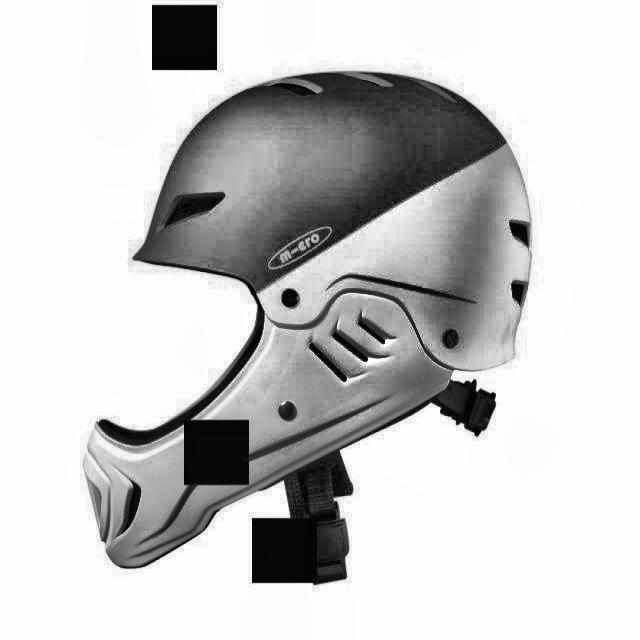Helmet: (72, 53, 549, 586)
